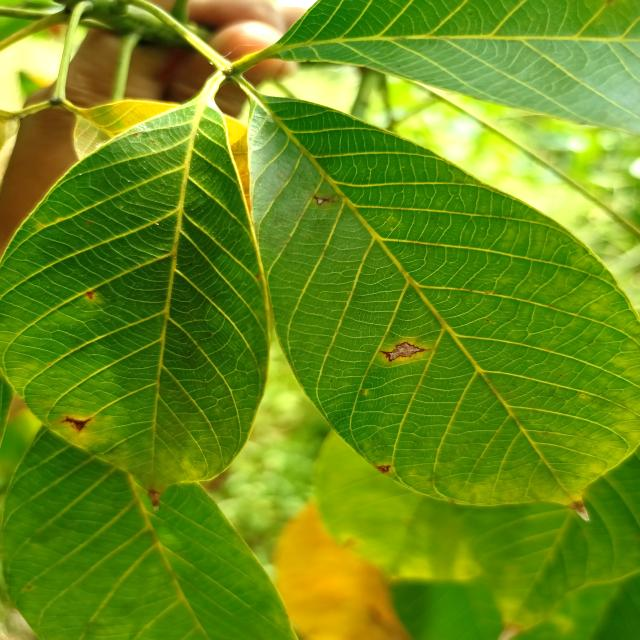Leaf-Blight: (391, 342, 422, 362)
